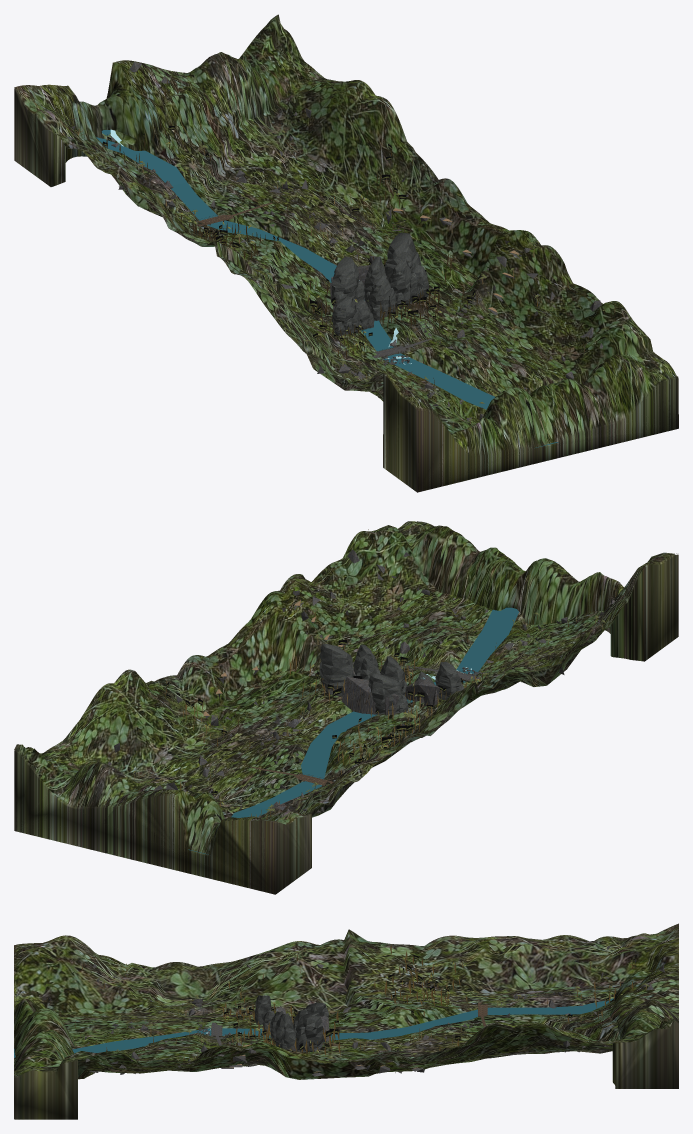
The model's file is world005_LOD2.fbx.
3 renders of one model, top to bottom at view 1: azimuth 30°, elevation 25°; view 2: azimuth 150°, elevation 25°; view 3: azimuth 270°, elevation 25°, orthographic. The views are drawn at different scales.
Visible parts, largest first — view 1: LODMesh_0434, LODMesh_0433, LODMesh_0570, LODMesh_0569, LODMesh_0567, LODMesh_0535, LODMesh_0564, LODMesh_0568, LODMesh_0561, LODMesh_0555, LODMesh_0553, LODMesh_0566 (+30 smaller); view 2: LODMesh_0433, LODMesh_0434, LODMesh_0568, LODMesh_0570, LODMesh_0567, LODMesh_0569, LODMesh_0535, LODMesh_0564, LODMesh_0571, LODMesh_0566, LODMesh_0561, LODMesh_0563 (+27 smaller); view 3: LODMesh_0434, LODMesh_0433, LODMesh_0536, LODMesh_0540, LODMesh_0538, LODMesh_0537, LODMesh_0539, LODMesh_0541, LODMesh_0535, LODMesh_0545, LODMesh_0570, LODMesh_0568 (+29 smaller).
Boxes of the visible parts, x1,y1,x2,y2 form: LODMesh_0434: (383,341,678,492); LODMesh_0433: (14,20,309,186); LODMesh_0570: (300,80,409,196); LODMesh_0569: (366,145,475,254); LODMesh_0567: (501,245,604,352); LODMesh_0535: (96,129,558,448); LODMesh_0564: (259,129,365,209); LODMesh_0568: (435,211,540,294); LODMesh_0561: (456,297,567,370); LODMesh_0555: (413,323,524,390); LODMesh_0553: (106,60,212,173); LODMesh_0566: (568,301,678,410); LODMesh_0433: (14,747,311,894); LODMesh_0434: (402,521,678,661); LODMesh_0568: (215,586,325,693); LODMesh_0570: (82,669,193,763); LODMesh_0567: (283,541,392,635); LODMesh_0569: (149,651,258,733); LODMesh_0535: (188,607,518,854); LODMesh_0564: (124,732,235,788); LODMesh_0571: (14,715,126,799); LODMesh_0566: (351,521,434,596); LODMesh_0561: (329,596,436,659); LODMesh_0563: (194,692,304,747); LODMesh_0434: (14,959,77,1119); LODMesh_0433: (609,933,678,1088); LODMesh_0536: (14,935,127,1014); LODMesh_0540: (456,935,570,993); LODMesh_0538: (234,930,349,1003); LODMesh_0537: (122,961,236,1012); LODMesh_0539: (343,929,458,990); LODMesh_0541: (565,923,678,988); LODMesh_0535: (14,998,613,1057); LODMesh_0545: (344,979,458,1018); LODMesh_0570: (456,1021,570,1062); LODMesh_0568: (235,1042,348,1079).
Bounding box in the file's own units: 30001 × 13332 × 80001.
